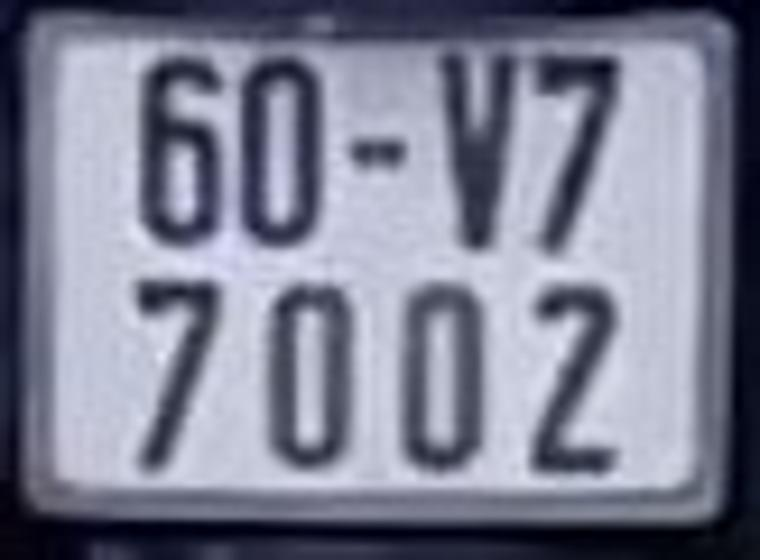-: (342, 137, 410, 170)
0: (234, 57, 326, 242), (263, 286, 355, 466), (400, 281, 485, 471)
2: (522, 284, 627, 474)
6: (135, 57, 221, 245)
7: (129, 279, 220, 466), (534, 51, 621, 245)
V: (437, 47, 514, 247)
